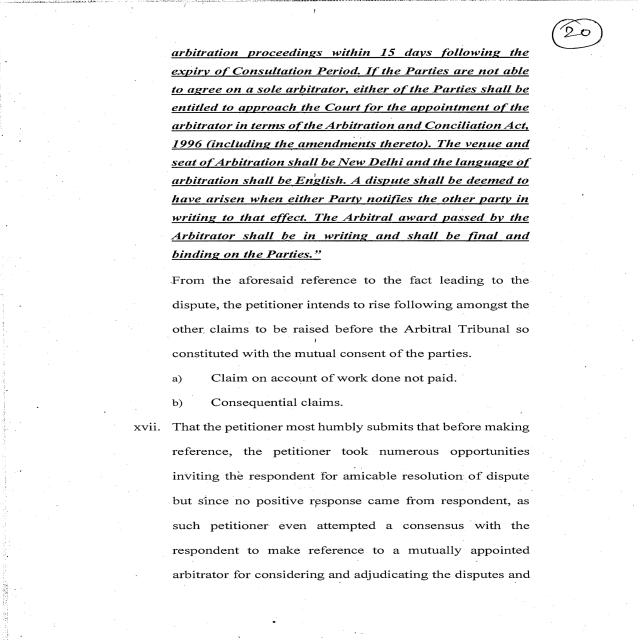page-number: (530, 3, 637, 132)
